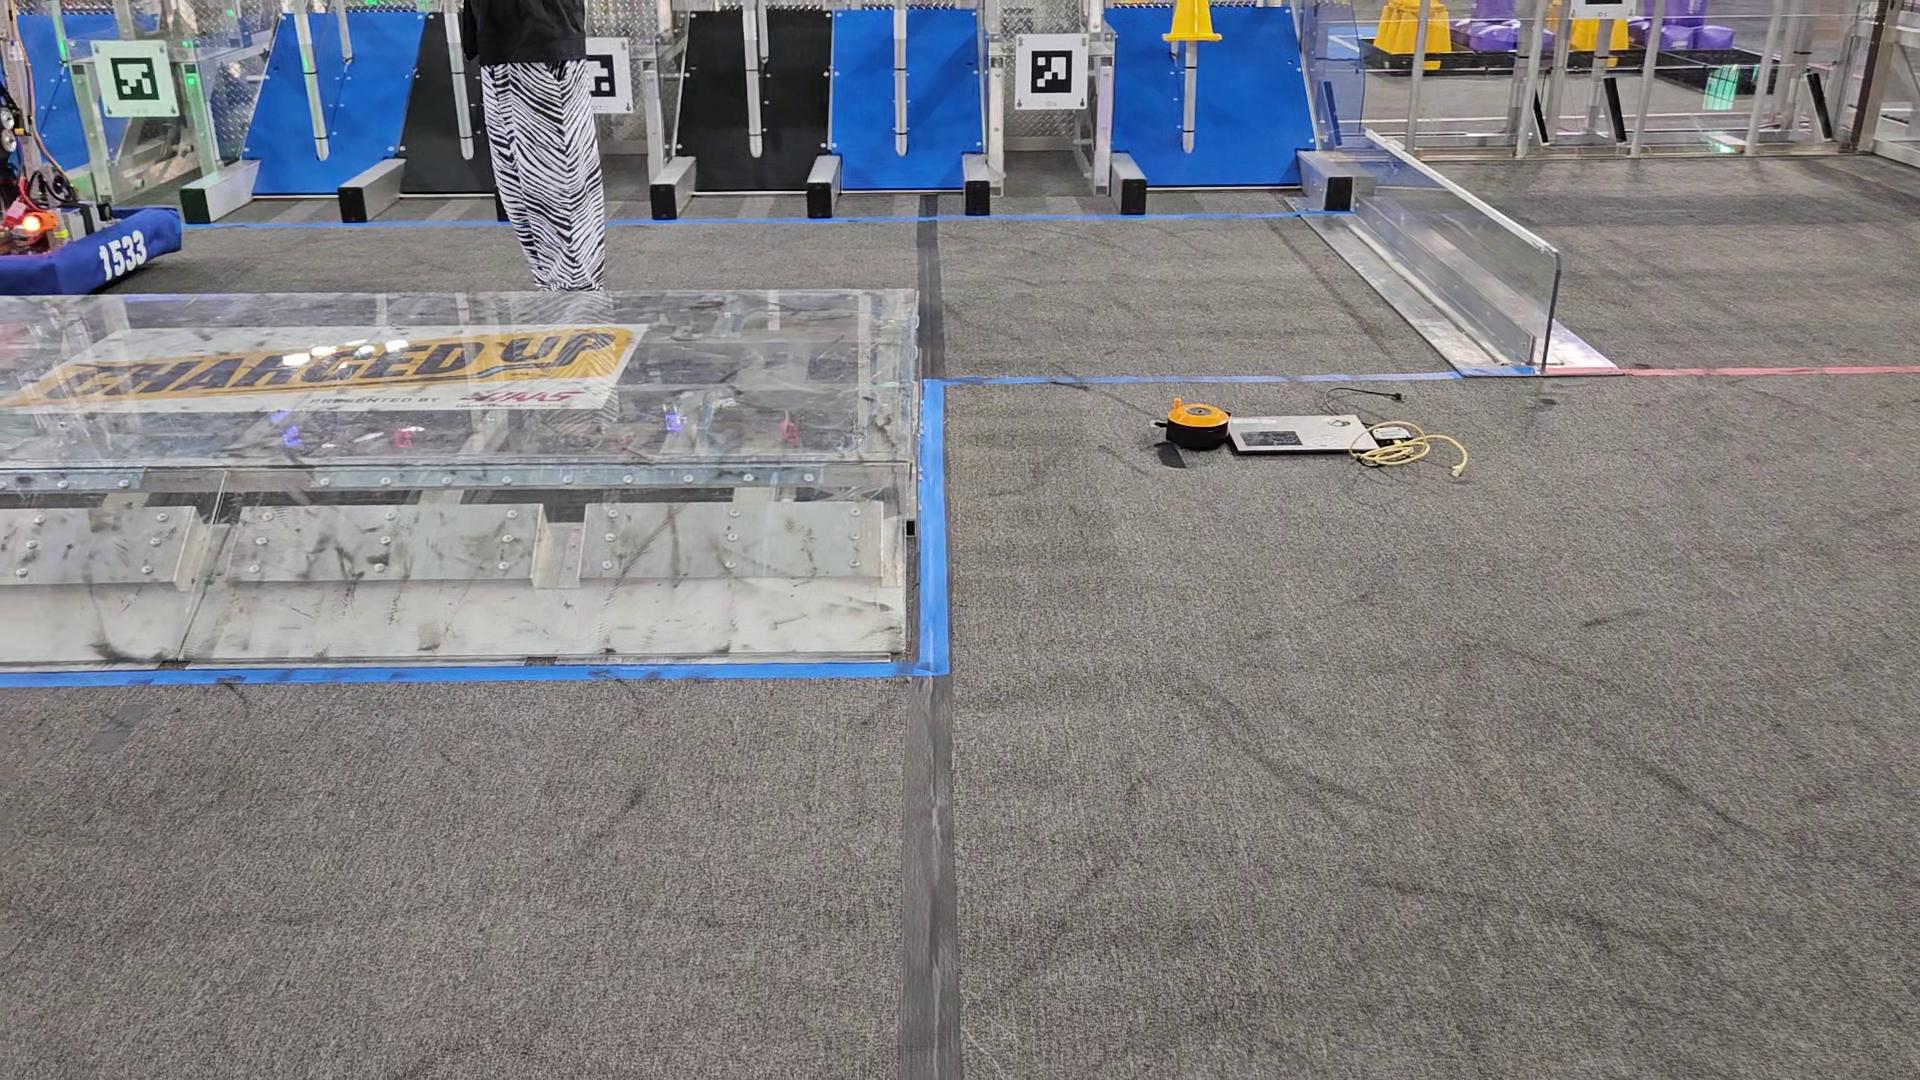robot: (0, 70, 185, 294)
